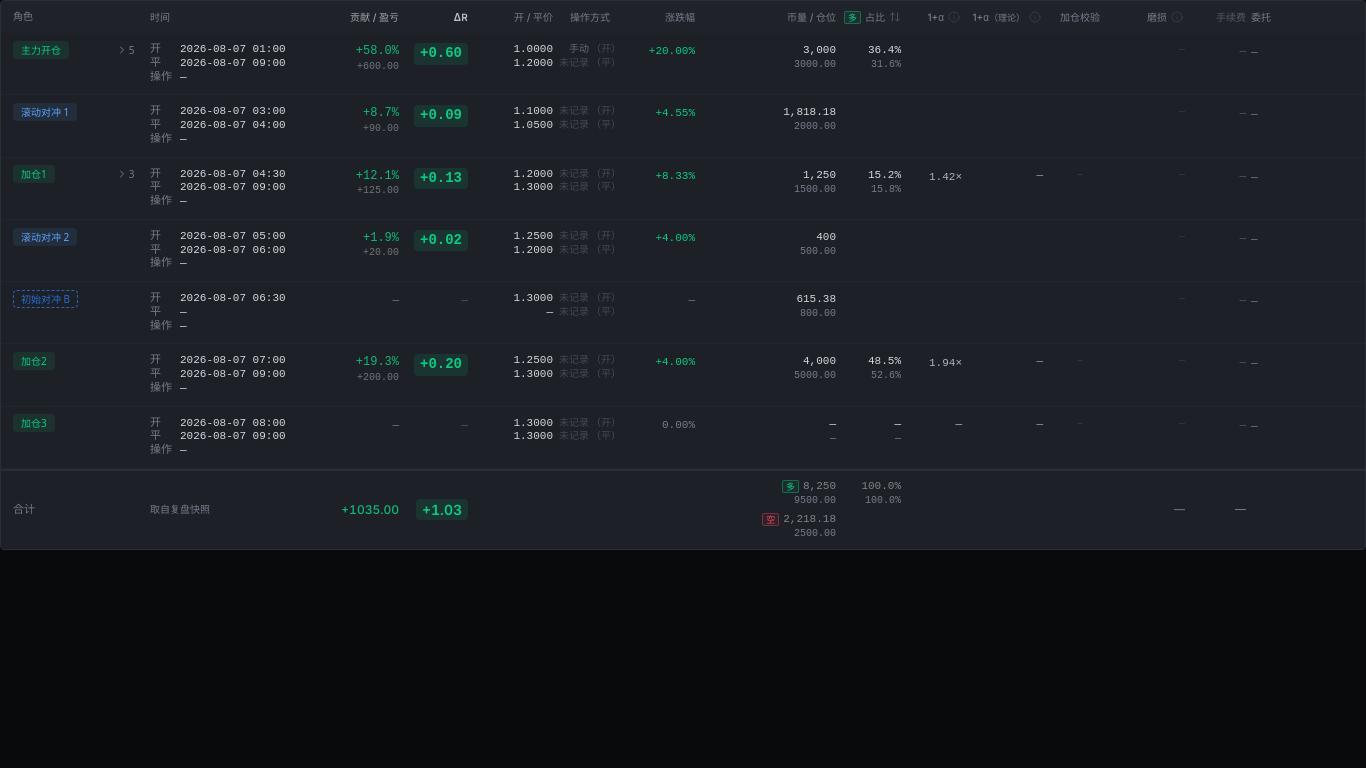
Test case: 【用户要求】点击「多单占比」列头排序 › 主力的阶段子行跟着主力走；合计行始终是滚动区里的最后一行
Later steps or results of the test are not shown.
What coordinates should you click on to do the following:
click the button with test id "leg-phases-toggle-main"
I would click on:
 (127, 50)
Its box is [113,41,141,59].
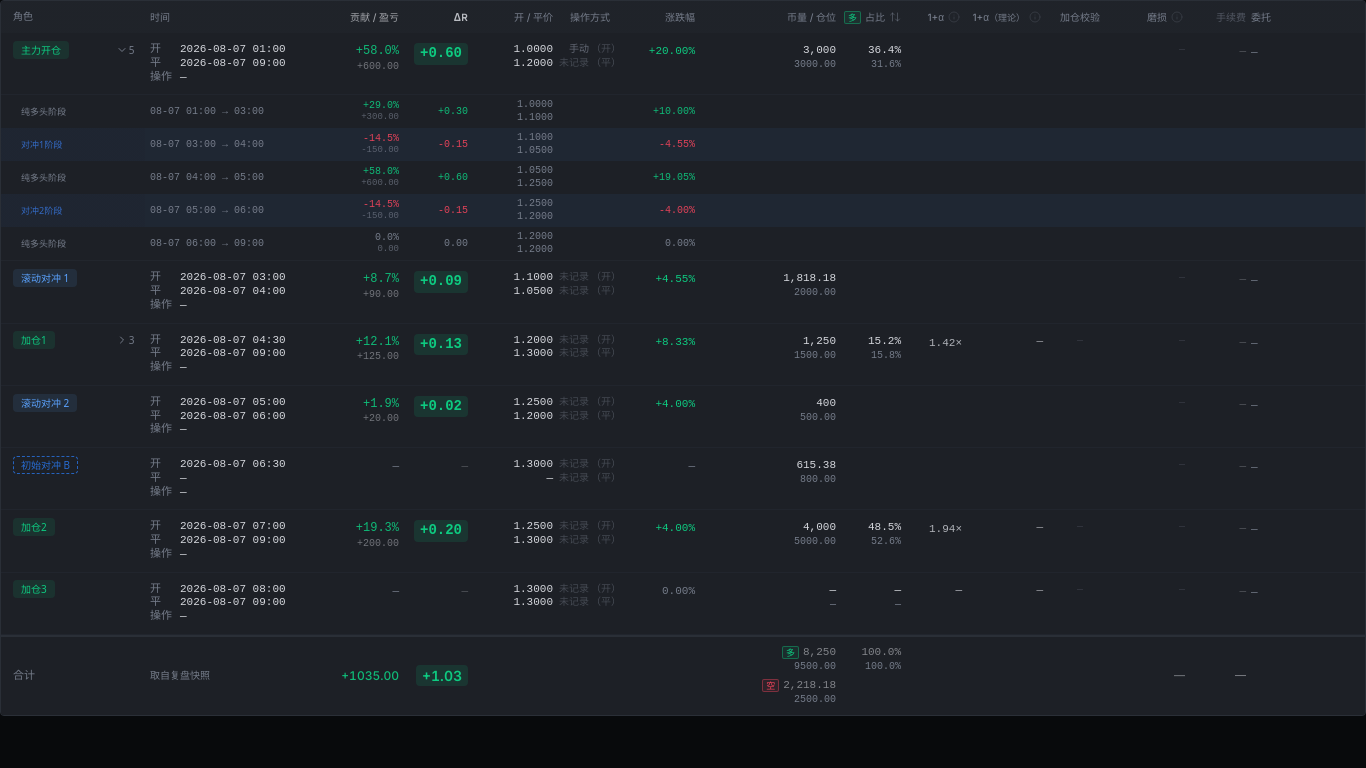
What coordinates should you click on to do the following:
click the button with aria-label "按多单占比排序："
I would click on:
 (871, 17)
Its box is [841,10,901,24].
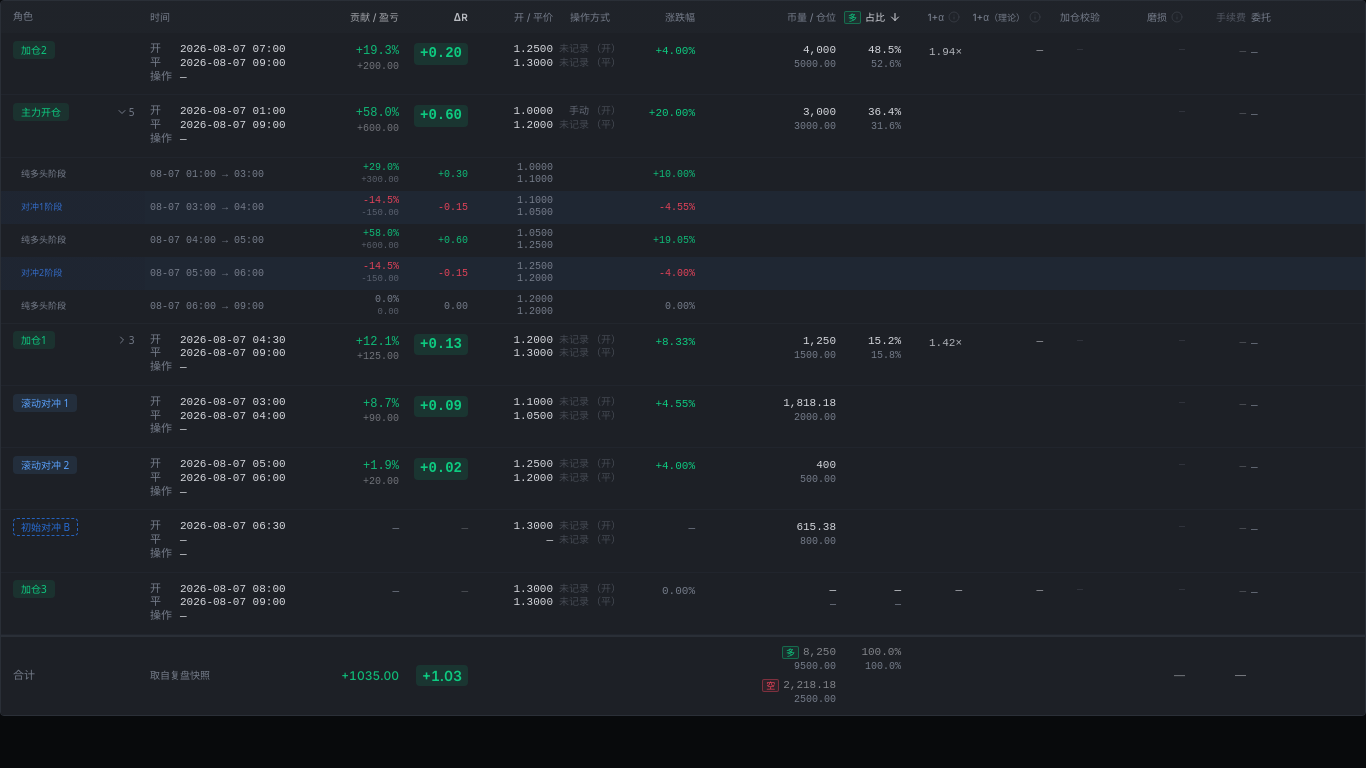
Expected: the button with test id "leg-phases-toggle-main" is expanded, [113,103,141,121]
